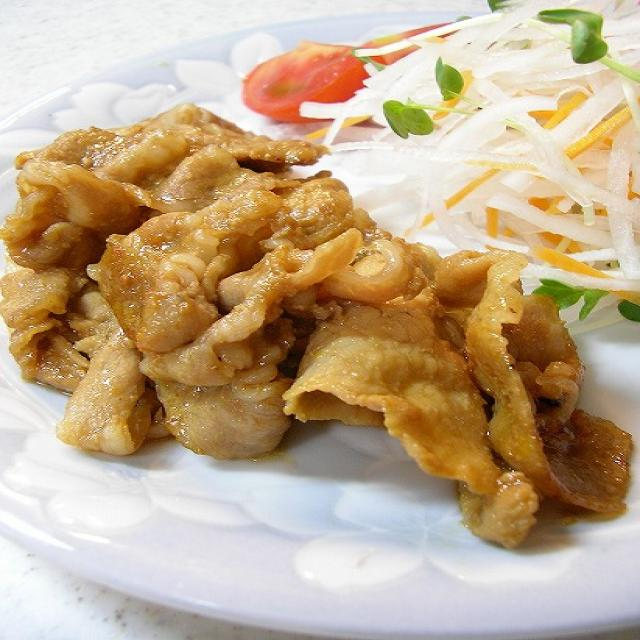猪肉菜式: (0, 92, 640, 563)
